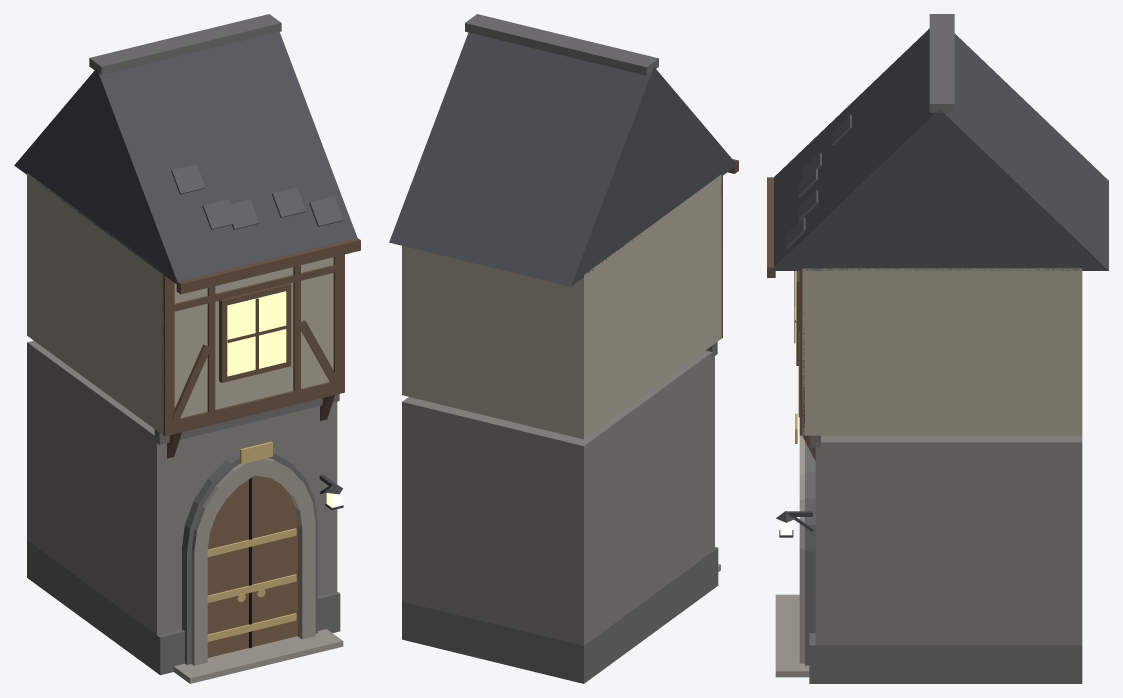
The model's file is range_door.glb.
The picture shows the model from 3 angles, left to right: view 1: azimuth 30°, elevation 25°; view 2: azimuth 150°, elevation 25°; view 3: azimuth 270°, elevation 25°; orthographic projection. The views are drawn at different scales.
Visible parts, largest first — view 1: Upper, Plinth; view 2: Upper, Plinth; view 3: Upper, Plinth.
Part boxes in pixels (x1,y1,x2,y2): Upper: (14, 14, 360, 665); Plinth: (27, 540, 343, 683); Upper: (389, 14, 738, 645); Plinth: (402, 547, 720, 683); Upper: (767, 14, 1108, 665); Plinth: (775, 594, 1082, 683).
Bounding box in the file's own units: 4 × 12 × 6.41.
